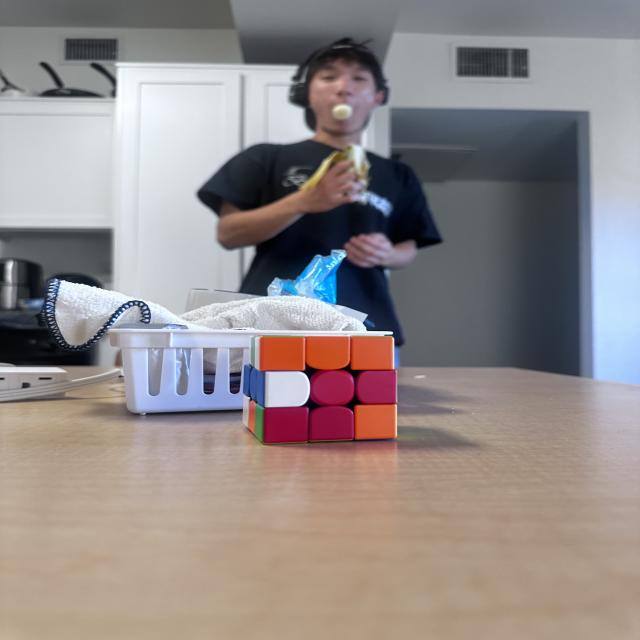sticker: (260, 404, 310, 445), (352, 402, 398, 441), (258, 335, 306, 372), (309, 369, 355, 407), (309, 404, 355, 442), (265, 370, 311, 408), (304, 335, 352, 371), (350, 335, 396, 371), (354, 369, 398, 406), (248, 366, 264, 404), (247, 399, 258, 434), (242, 364, 253, 397), (254, 404, 264, 439), (242, 397, 252, 429)
